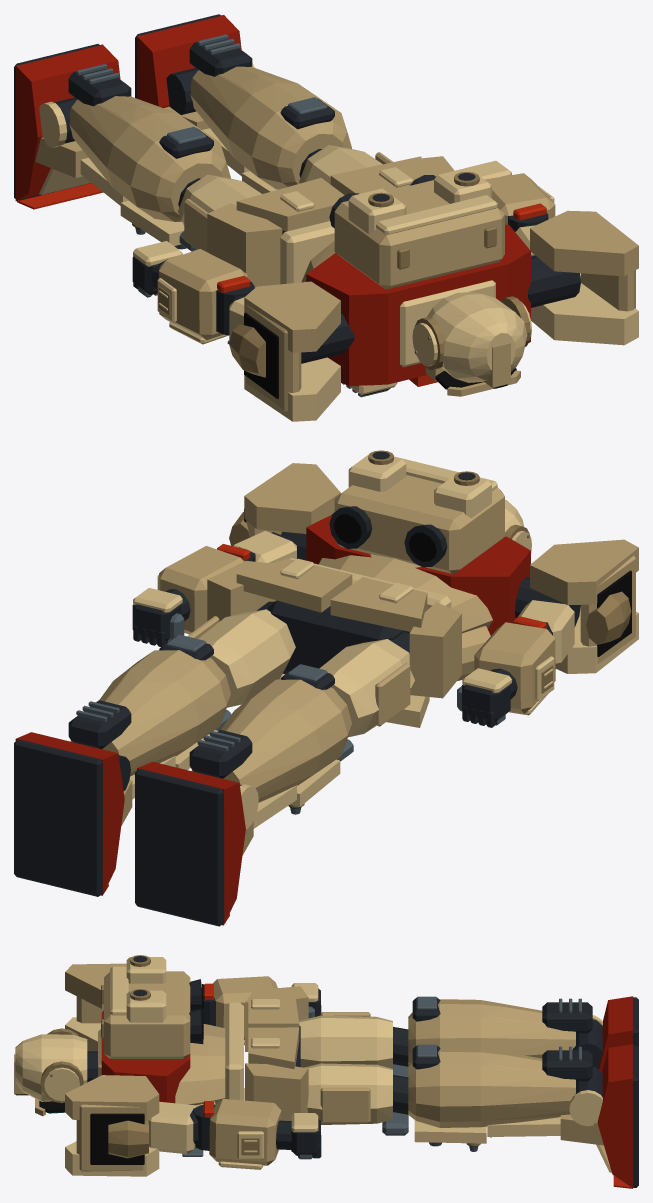
The model's file is mecha_reference.obj.
3 views of the same model, one above another, from view 1: azimuth 30°, elevation 25°; view 2: azimuth 150°, elevation 25°; view 3: azimuth 270°, elevation 25° (orthographic). The views are drawn at different scales.
Parts seen in each view (by area): view 1: Thorax_red, R_calf_shell, L_calf_shell, Backpack_main, Helmet_shell, R_red_foot, L_shoulder_back, R_shoulder_back, R_side_skirt, L_red_foot, L_shoulder_front, R_forearm (+35 smaller); view 2: R_sole, L_sole, L_calf_shell, R_calf_shell, Backpack_main, Thorax_red, L_thigh, L_shoulder_back, R_shoulder_back, R_thigh, Pelvis_core, R_side_skirt (+33 smaller); view 3: L_calf_shell, R_calf_shell, Backpack_main, R_thigh, L_red_foot, L_forearm, L_thigh, Helmet_shell, Abdomen_armor, L_shoulder_back, L_side_skirt, Thorax_red (+41 smaller).
Part boxes in pixels (x1=…): Thorax_red: x1=306, y1=224, x2=530, y2=386; R_calf_shell: x1=69, y1=96, x2=230, y2=221; L_calf_shell: x1=190, y1=66, x2=351, y2=189; Backpack_main: x1=334, y1=180, x2=504, y2=289; Helmet_shell: x1=427, y1=292, x2=527, y2=382; R_red_foot: x1=15, y1=44, x2=120, y2=201; L_shoulder_back: x1=530, y1=210, x2=638, y2=276; R_shoulder_back: x1=244, y1=281, x2=340, y2=352; R_side_skirt: x1=207, y1=203, x2=282, y2=287; L_red_foot: x1=137, y1=15, x2=241, y2=107; L_shoulder_front: x1=531, y1=277, x2=638, y2=345; R_forearm: x1=159, y1=249, x2=247, y2=340; R_sole: x1=135, y1=768, x2=224, y2=926; L_sole: x1=14, y1=739, x2=102, y2=896; L_calf_shell: x1=70, y1=650, x2=230, y2=776; R_calf_shell: x1=191, y1=679, x2=351, y2=802; Backpack_main: x1=334, y1=475, x2=504, y2=573; Thorax_red: x1=306, y1=515, x2=530, y2=635; L_thigh: x1=198, y1=609, x2=295, y2=707; L_shoulder_back: x1=244, y1=463, x2=340, y2=533; R_shoulder_back: x1=530, y1=539, x2=638, y2=605; R_thigh: x1=319, y1=639, x2=414, y2=737; Pelvis_core: x1=268, y1=600, x2=409, y2=674; R_side_skirt: x1=409, y1=602, x2=461, y2=698; L_calf_shell: x1=408, y1=1047, x2=575, y2=1127; R_calf_shell: x1=408, y1=999, x2=575, y2=1064; Backpack_main: x1=104, y1=971, x2=190, y2=1058; R_thigh: x1=299, y1=1015, x2=392, y2=1068; L_red_foot: x1=597, y1=1044, x2=633, y2=1187; L_forearm: x1=209, y1=1099, x2=281, y2=1165; L_thigh: x1=304, y1=1063, x2=392, y2=1124; Helmet_shell: x1=15, y1=1034, x2=87, y2=1101; Abdomen_armor: x1=175, y1=1024, x2=225, y2=1105; L_shoulder_back: x1=65, y1=1075, x2=159, y2=1120; L_side_skirt: x1=245, y1=1063, x2=308, y2=1120; Thorax_red: x1=101, y1=1010, x2=190, y2=1103.
Size of the model in its own units: 1.17 by 0.6162 by 2.03.
